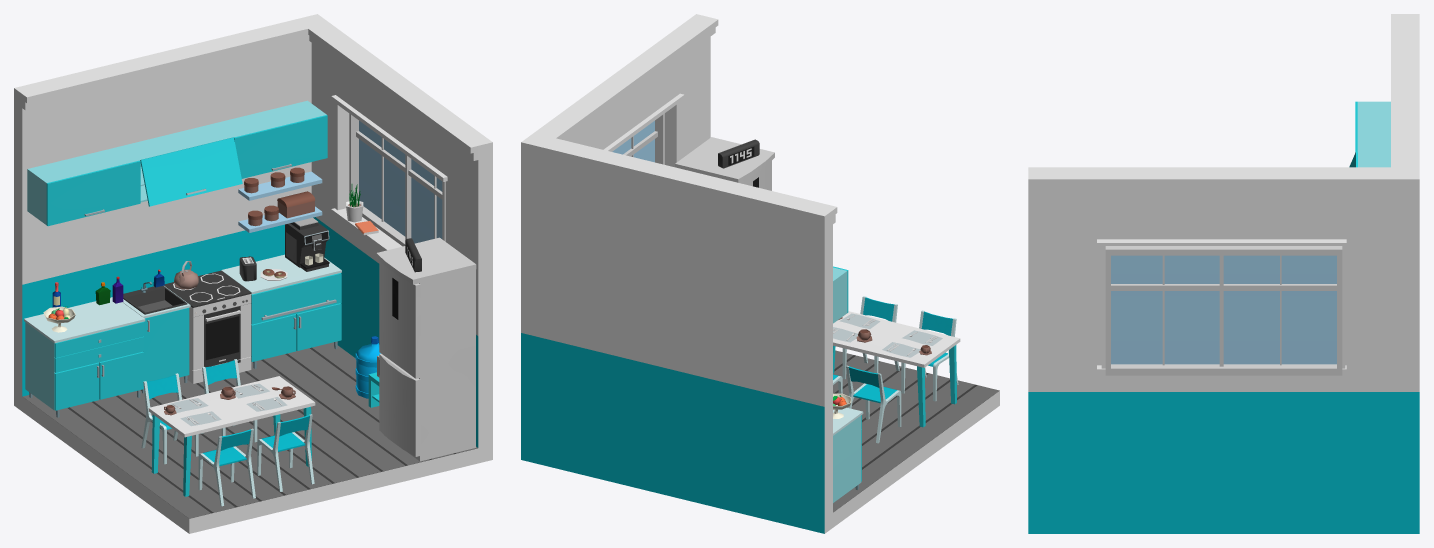
File: room_8.glb
The picture shows the model from 3 angles, left to right: view 1: azimuth 30°, elevation 25°; view 2: azimuth 150°, elevation 25°; view 3: azimuth 270°, elevation 25°; orthographic projection. The views are drawn at different scales.
Visible parts, largest first — view 1: Walls_006.021, wall_004.001, kitchen_item_019.001, kitchen_item_043.001, kitchen_item_045.001, Walls_011.003, Walls_094.009, kitchen_item_044.001, window_006.001, Walls_006.023, Walls_094.008, kitchen_item_060.001 (+21 smaller); view 2: Walls_006.021, Walls_094.009, wall_004.001, Walls_006.024, Walls_006.023, kitchen_table_019.001, Walls_011.003, Walls_006.022, kitchen_item_019.001, kitchen_item_045.001, Walls_005.071, kitchen_chair_038.001 (+10 smaller); view 3: Walls_094.008, window_006.001, Walls_006.022, Walls_006.023, Walls_006.024, Walls_006.025, Walls_006.021, kitchen_item_043.001, Walls_005.069, Walls_005.073, Walls_005.071, Walls_005.072 (+3 smaller).
Boxes of the visible parts, box(x1,y1,x2,y2) form: Walls_006.021: box(14, 17, 311, 284); wall_004.001: box(23, 342, 477, 518); kitchen_item_019.001: box(376, 237, 476, 461); kitchen_item_043.001: box(27, 100, 327, 226); kitchen_item_045.001: box(24, 297, 145, 417); Walls_011.003: box(22, 347, 478, 533); Walls_094.009: box(14, 224, 284, 411); kitchen_item_044.001: box(221, 254, 341, 368); window_006.001: box(349, 113, 442, 246); Walls_006.023: box(443, 116, 492, 336); Walls_094.008: box(313, 217, 492, 463); kitchen_item_060.001: box(164, 270, 251, 383); Walls_006.021: box(535, 140, 832, 406); Walls_094.009: box(521, 333, 832, 533); wall_004.001: box(833, 350, 999, 512); Walls_006.024: box(556, 39, 675, 149); Walls_006.023: box(662, 14, 710, 160); kitchen_table_019.001: box(833, 311, 960, 427); Walls_011.003: box(833, 355, 999, 527); Walls_006.022: box(521, 116, 570, 336); kitchen_item_019.001: box(675, 137, 774, 190); kitchen_item_045.001: box(833, 407, 863, 502); Walls_005.071: box(548, 17, 715, 140); kitchen_chair_038.001: box(846, 365, 901, 443); Walls_094.008: box(1028, 392, 1419, 533); window_006.001: box(1105, 246, 1342, 375); Walls_006.022: box(1341, 171, 1419, 391); Walls_006.023: box(1028, 171, 1106, 391); Walls_006.024: box(1106, 171, 1341, 239); Walls_006.025: box(1106, 375, 1341, 391); Walls_006.021: box(1401, 14, 1419, 171); kitchen_item_043.001: box(1349, 101, 1390, 167); Walls_005.069: box(1097, 239, 1346, 247); Walls_005.073: box(1394, 14, 1400, 171); Walls_005.071: box(1028, 169, 1390, 171); Walls_005.072: box(1028, 167, 1390, 168).
Size of the model in its own units: 4.39 by 4.2 by 4.2.
1 material, 1 textured.
